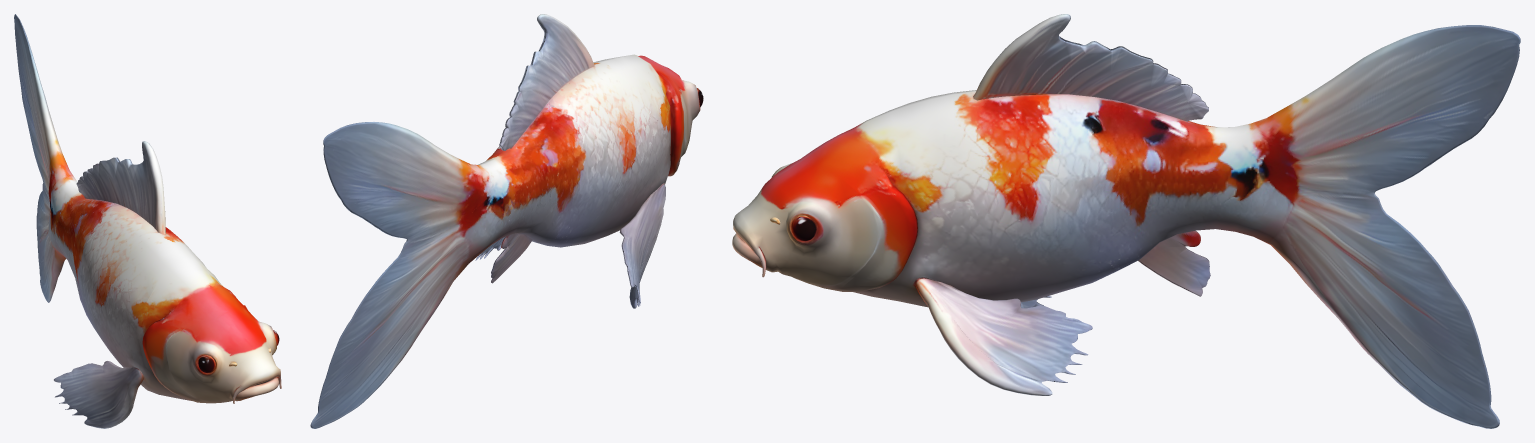
The model's file is moon_koi.fbx.
The picture shows the model from 3 angles, left to right: view 1: azimuth 30°, elevation 25°; view 2: azimuth 150°, elevation 25°; view 3: azimuth 270°, elevation 25°; orthographic projection. The views are drawn at different scales.
Parts seen in each view (by area): view 1: tripo_node_94b875e5; view 2: tripo_node_94b875e5; view 3: tripo_node_94b875e5.
Part boxes in pixels (box(x1,y1,x2,y2)): tripo_node_94b875e5: box(14, 14, 281, 428); tripo_node_94b875e5: box(310, 14, 703, 428); tripo_node_94b875e5: box(732, 14, 1520, 428).
Bounding box in the file's own units: 0.3296 × 0.5415 × 0.9995.
1 material, 1 textured.
